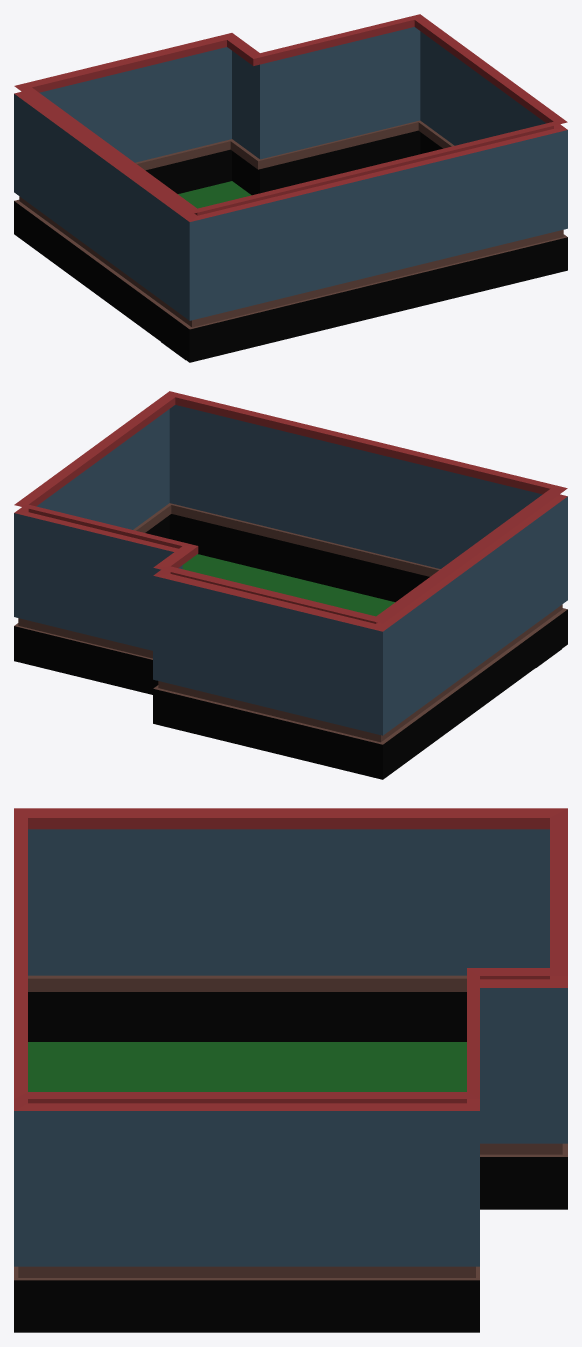
File: M_InHouse_Down.fbx
3 views of the same model, one above another, from view 1: azimuth 30°, elevation 25°; view 2: azimuth 150°, elevation 25°; view 3: azimuth 270°, elevation 25° (orthographic). The views are drawn at different scales.
Parts seen in each view (by area): view 1: House_Under; view 2: House_Under; view 3: House_Under.
Boxes of the visible parts, x1,y1,x2,y2 form: House_Under: (14,14,567,362); House_Under: (14,391,567,779); House_Under: (14,808,567,1332).
Size of the model in its own units: 639 by 241 by 515.
